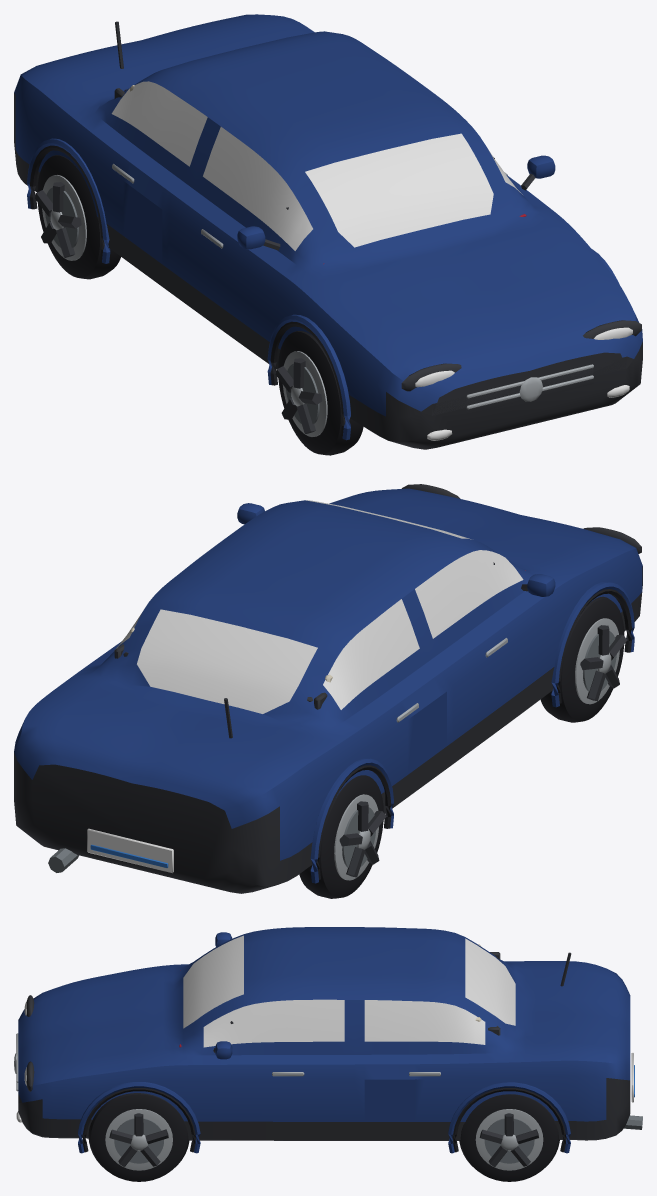
File: OfficeDadCar_V2.fbx
3 renders of one model, top to bottom at view 1: azimuth 30°, elevation 25°; view 2: azimuth 150°, elevation 25°; view 3: azimuth 270°, elevation 25°, orthographic. The views are drawn at different scales.
Parts seen in each view (by area): view 1: O_Car_0_-1_0, O_Car_-1_0_0, G_Car_-1_-1_0, O_Car_-1_-1_0, G_Car_-1_0_0; view 2: O_Car_0_-1_0, O_Car_-1_0_0, G_Car_0_0_0, O_Car_-1_-1_0, G_Car_-1_-1_0, G_Car_-1_0_0, O_Car_0_0_0; view 3: O_Car_0_-1_0, O_Car_0_0_0, O_Car_-1_0_0, G_Car_0_0_0, G_Car_0_-1_0, G_Car_-1_-1_0, O_Car_-1_-1_0.
Part boxes in pixels (left/top/right/bottom): O_Car_0_-1_0: left=14, top=14, right=642, bottom=416; O_Car_-1_0_0: left=14, top=21, right=642, bottom=449; G_Car_-1_-1_0: left=203, top=127, right=493, bottom=250; O_Car_-1_-1_0: left=201, top=207, right=593, bottom=455; G_Car_-1_0_0: left=111, top=81, right=207, bottom=166; O_Car_0_-1_0: left=14, top=484, right=642, bottom=860; O_Car_-1_0_0: left=14, top=566, right=642, bottom=898; G_Car_0_0_0: left=115, top=609, right=317, bottom=713; O_Car_-1_-1_0: left=485, top=527, right=641, bottom=722; G_Car_-1_-1_0: left=306, top=500, right=523, bottom=638; G_Car_-1_0_0: left=323, top=599, right=419, bottom=709; O_Car_0_0_0: left=48, top=570, right=525, bottom=873; O_Car_0_-1_0: left=18, top=927, right=630, bottom=1181; O_Car_0_0_0: left=179, top=970, right=642, bottom=1181; O_Car_-1_0_0: left=18, top=944, right=634, bottom=1140; G_Car_0_0_0: left=364, top=938, right=515, bottom=1044; G_Car_0_-1_0: left=203, top=999, right=344, bottom=1047; G_Car_-1_-1_0: left=183, top=935, right=243, bottom=1028; O_Car_-1_-1_0: left=14, top=932, right=232, bottom=1091.
Bounding box in the file's own units: 5.43 × 3.74 × 12.19.
